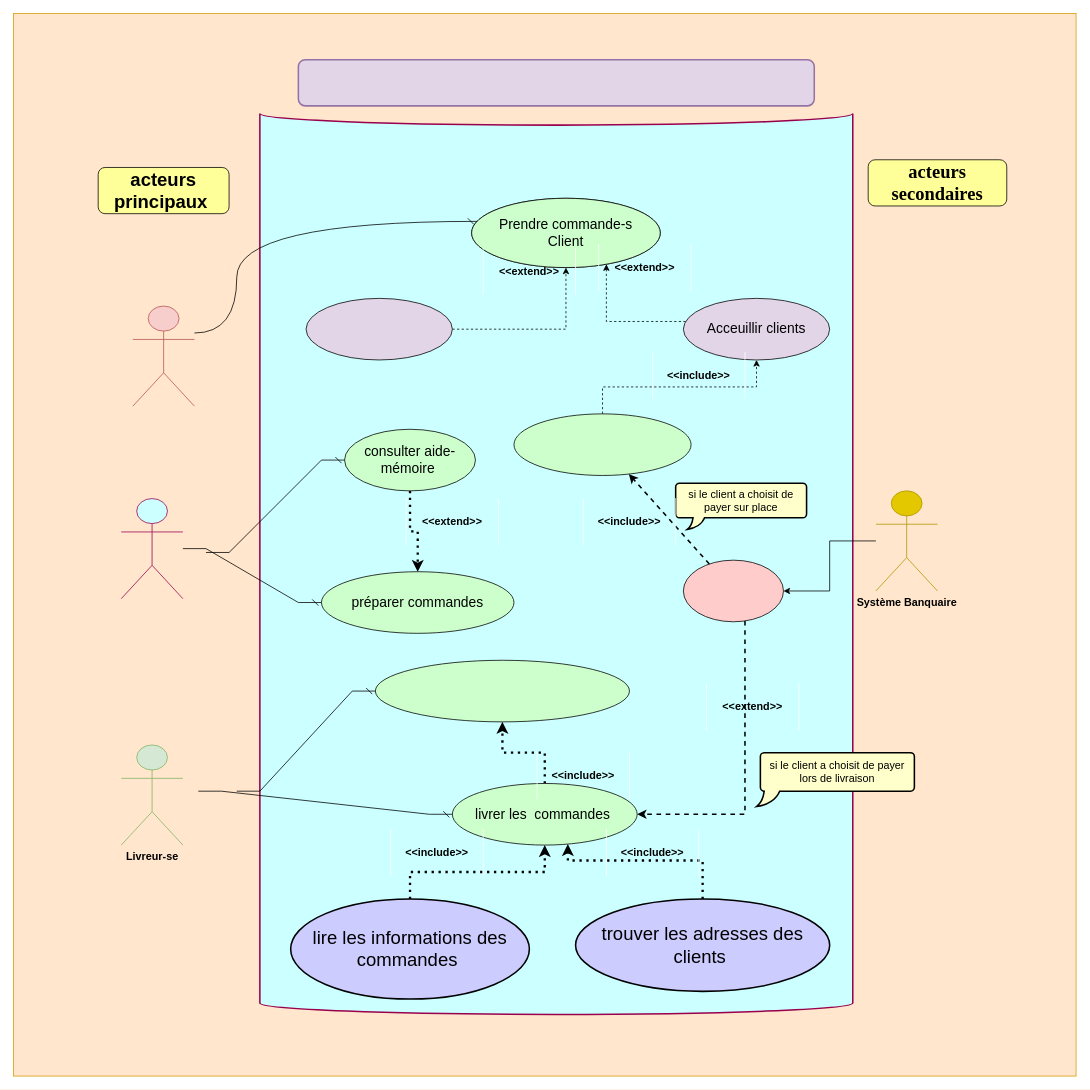
Some shapes in this 1090 by 1090 pixel diagram are drawn without their labels. The centre of each missing label's shape, as x and y in pixels:
"Cas d'utilisation interface web restaurant" belongs at point (556, 82).
"Donner commande client" belongs at point (602, 444).
"Employé-e" belongs at point (163, 355).
"Faire payer le client" belongs at point (733, 590).
"Pizaiolo-la" belongs at point (152, 548).
"Prendre appels" belongs at point (378, 329).
"récuperer les commandes" belongs at point (502, 691).
